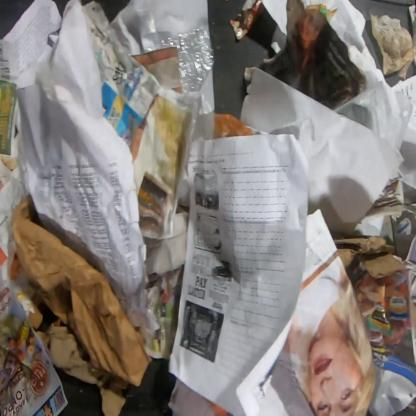cardboard: (34, 317, 130, 416), (331, 235, 409, 282), (16, 284, 44, 330)
rigid_plastic: (143, 26, 216, 98)
soft_plastic: (368, 10, 415, 81)
